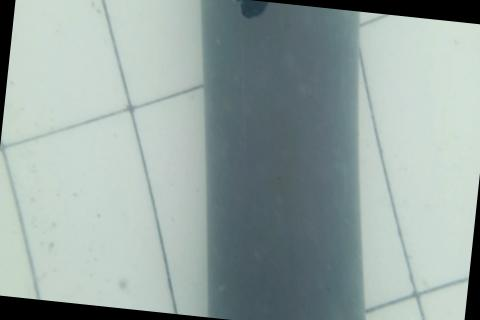kebocoran: (227, 0, 271, 22)
